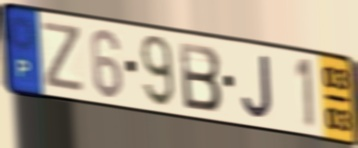1: (294, 57, 316, 133)
6: (88, 27, 125, 101)
9: (137, 33, 177, 109)
B: (177, 39, 224, 114)
J: (240, 52, 275, 121)
Z: (40, 19, 85, 95)
